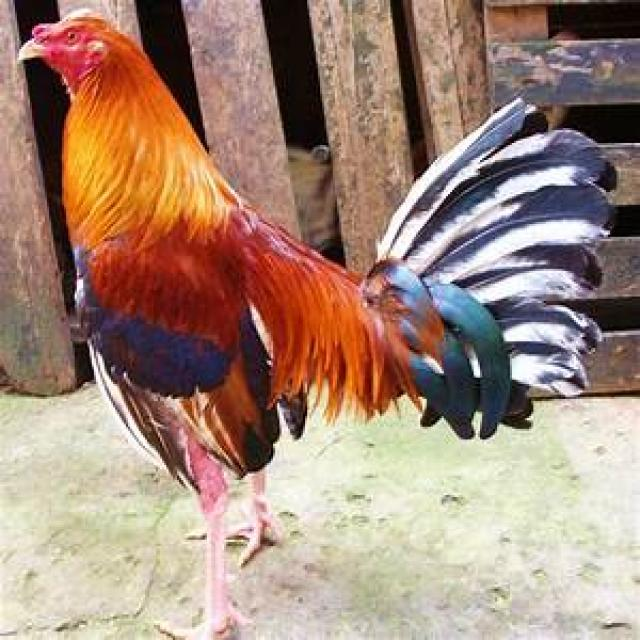hen: (17, 11, 619, 640)
